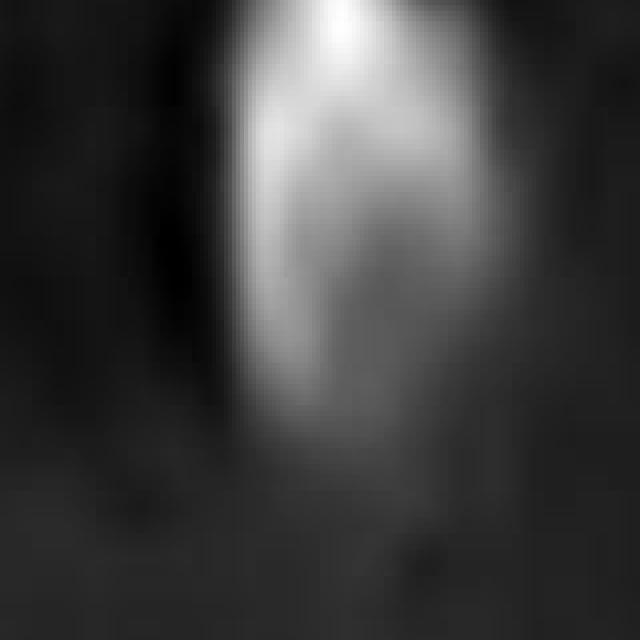person: (205, 1, 517, 444)
